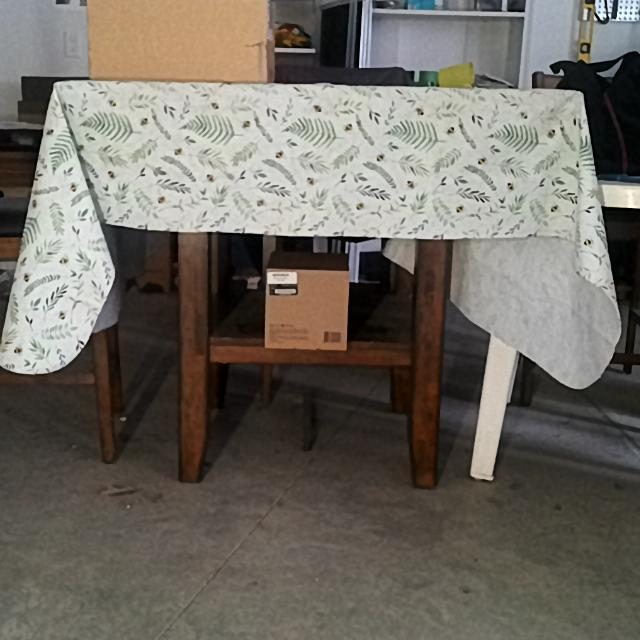box: (89, 0, 268, 80), (266, 269, 348, 348)
